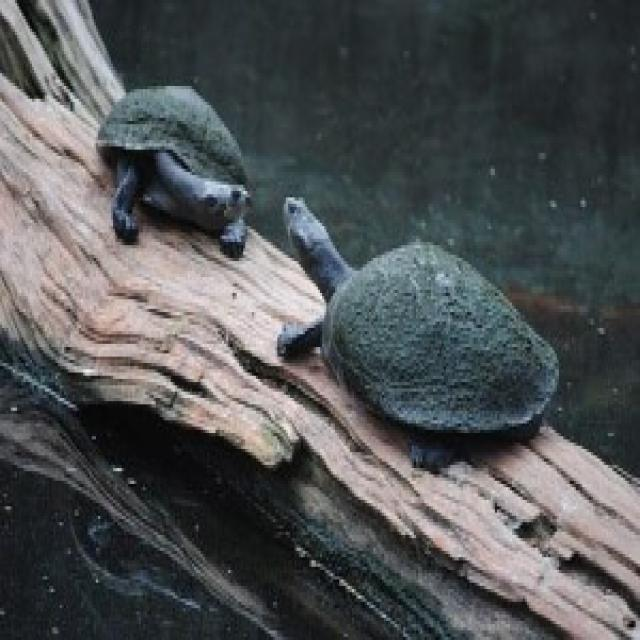Sea turtle: (272, 190, 566, 453), (72, 85, 256, 252)
